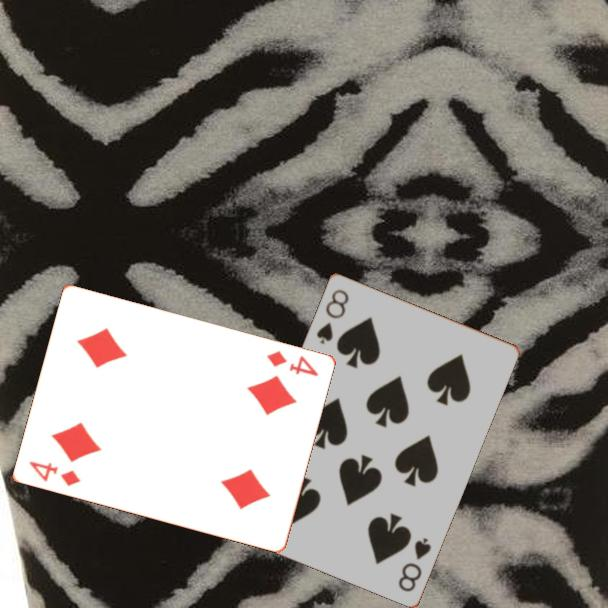d04: (263, 347, 322, 379), (26, 457, 84, 489)
s08: (394, 533, 434, 594), (313, 285, 352, 347)
